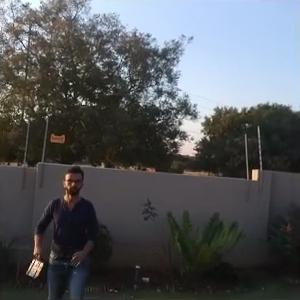follow: (19, 162, 104, 299)
